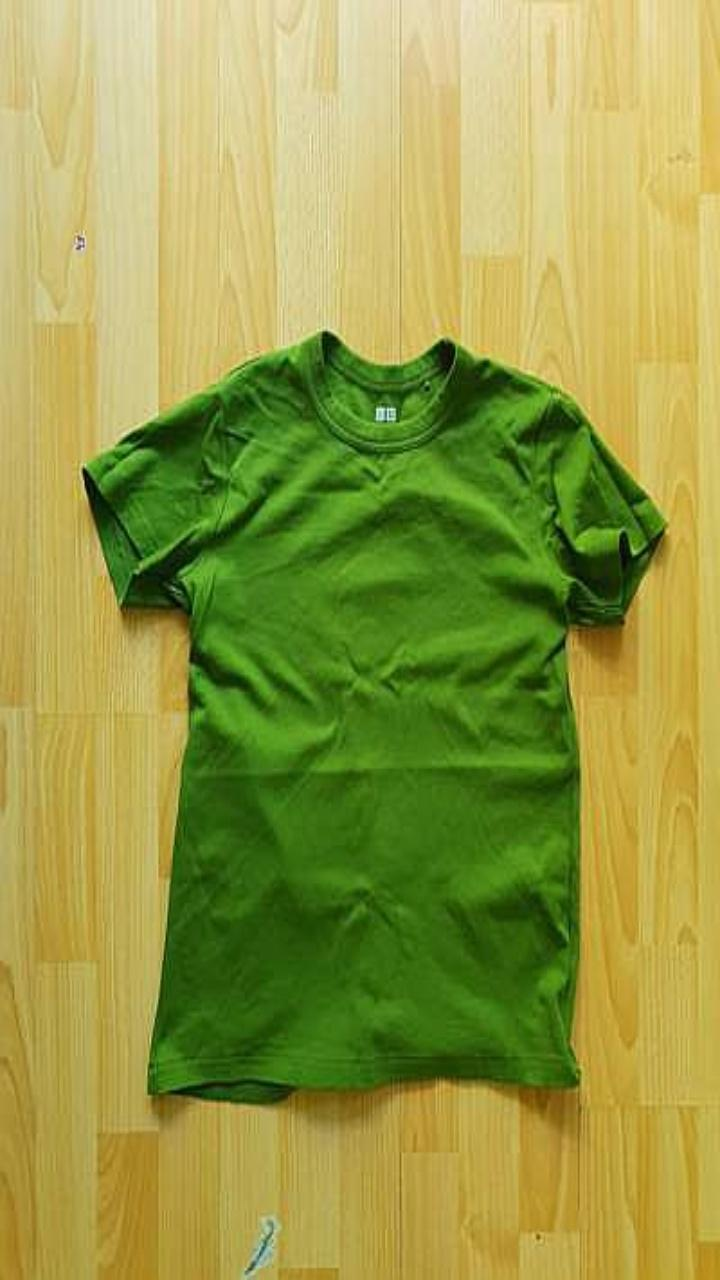T-Shirt: (82, 329, 666, 1102)
